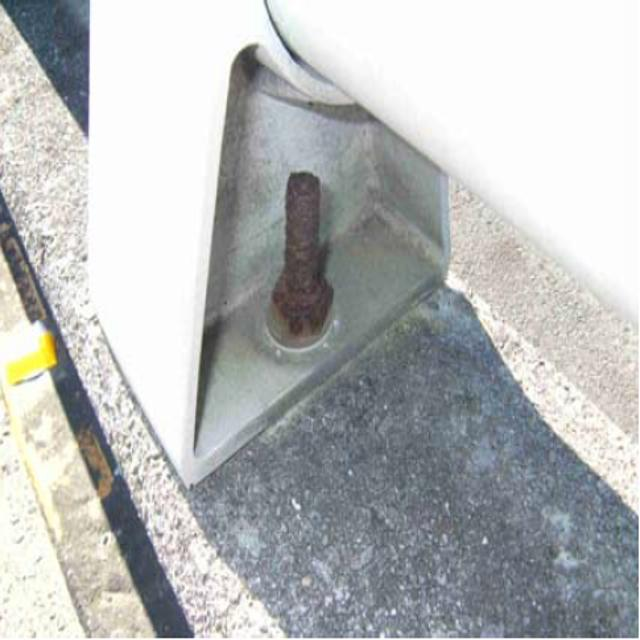corrosion: (254, 159, 367, 354)
